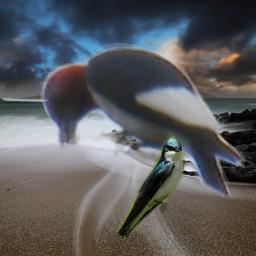Swallow: (115, 136, 186, 243)
Woodpecker: (35, 42, 250, 202)
